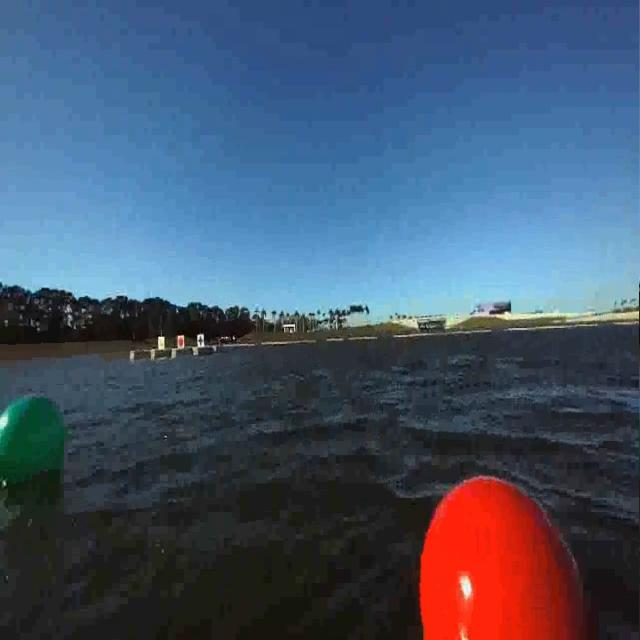green-buoy: (0, 390, 70, 496)
red-buoy: (405, 464, 607, 640)
